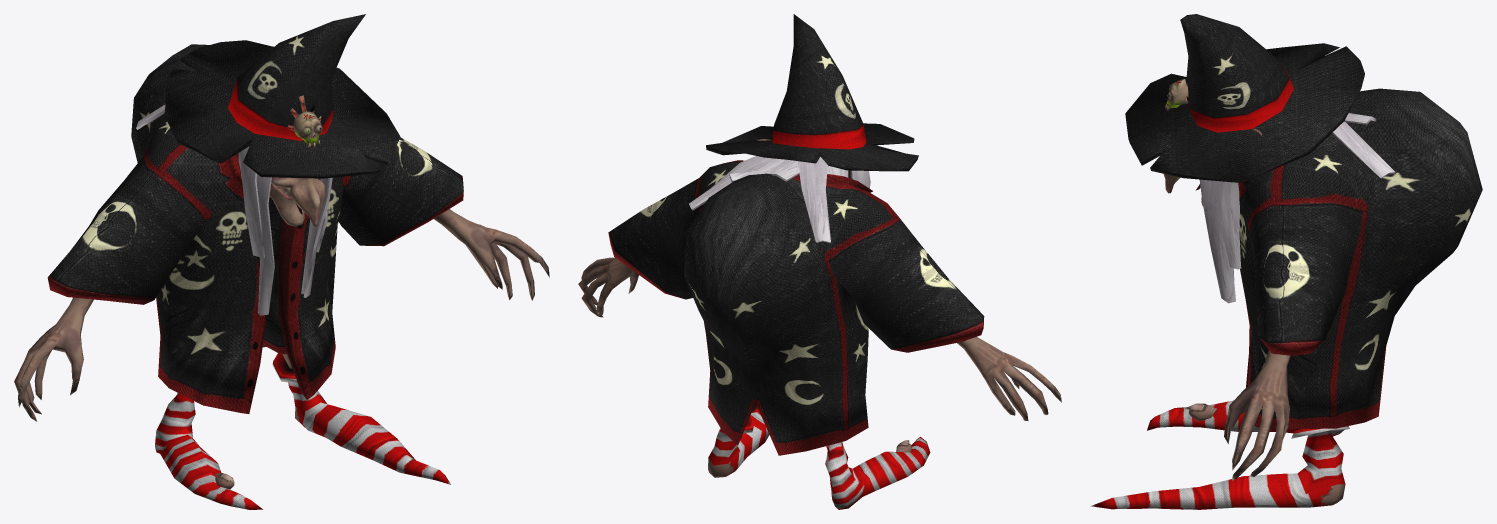
File: witch.obj
3 views of the same model, side by side, from view 1: azimuth 30°, elevation 25°; view 2: azimuth 150°, elevation 25°; view 3: azimuth 270°, elevation 25° (orthographic). The views are drawn at different scales.
Visible parts, largest first — view 1: Witch_Undefined; view 2: Witch_Undefined; view 3: Witch_Undefined.
Part boxes in pixels (<box>): Witch_Undefined: <box>14,14,549,509</box>; Witch_Undefined: <box>578,14,1061,509</box>; Witch_Undefined: <box>1090,14,1482,509</box>.
Size of the model in its own units: 2.47 by 2.06 by 1.53.
Materials: 3 (3 with a texture image).
